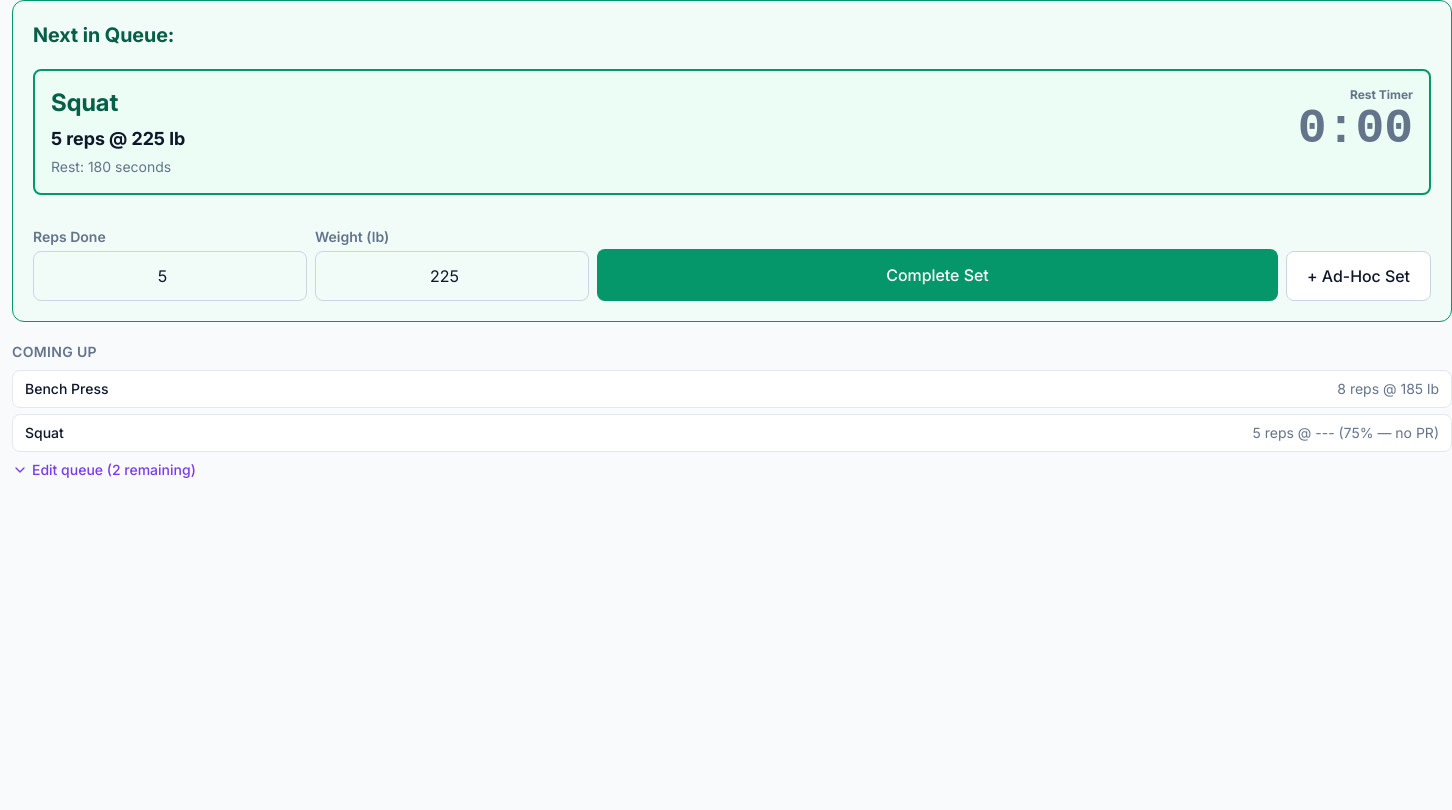
Test case: SetQueue › displays null load when target_load_percentage set but target_load is null (expanded)
Step 1. Click the button with test id "expand-queue-btn" → [104, 470], box [12,460,196,480]
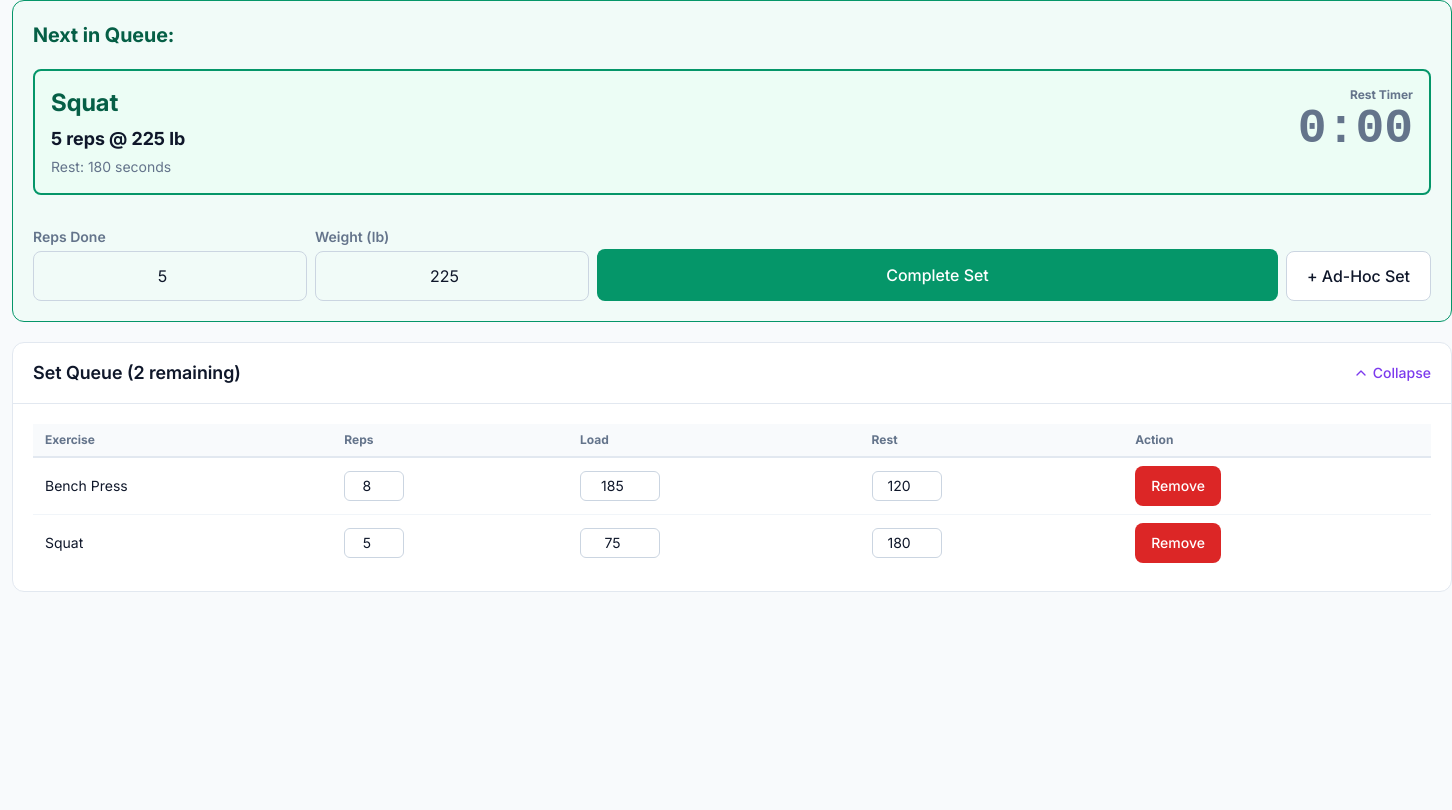
Expected: the number field with test id "edit-load-3" holds "75", [580,528,660,558]
